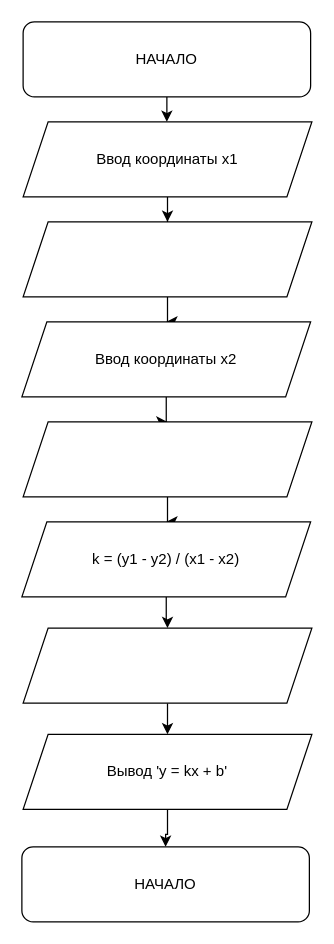
Image size: 334x944. Some labels were removed from this diagram. Each missing label, with the centre of its shape:
b = y2 - k * x2: [167,665]
Ввод координаты y1: [167,259]
Ввод координаты y2: [167,459]
